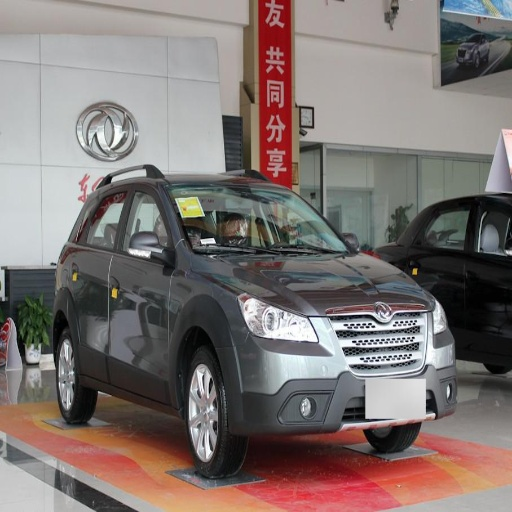front_bumper: (223, 300, 454, 446)
front_right_door: (109, 185, 174, 398), (2, 111, 32, 204)
front_right_light: (239, 293, 315, 341)
trunk: (107, 70, 163, 145)
